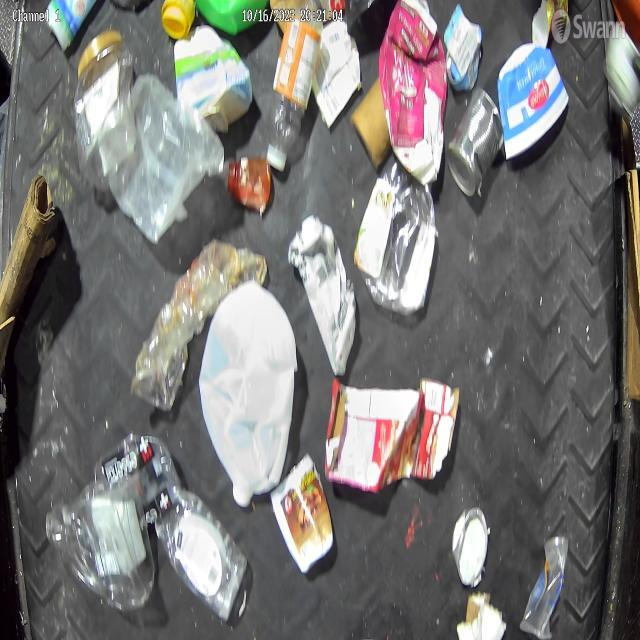can: (446, 84, 504, 197), (450, 506, 490, 586)
milk_jug: (199, 280, 299, 510)
non_white_jug: (45, 482, 157, 614), (378, 0, 446, 186), (356, 160, 436, 313)
plastic_bottle: (266, 8, 324, 170)
